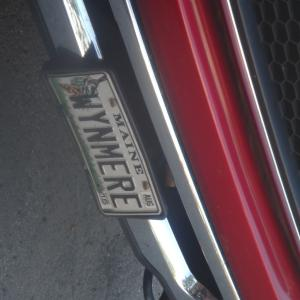Vehicle-registration-plate: (57, 66, 164, 224)
